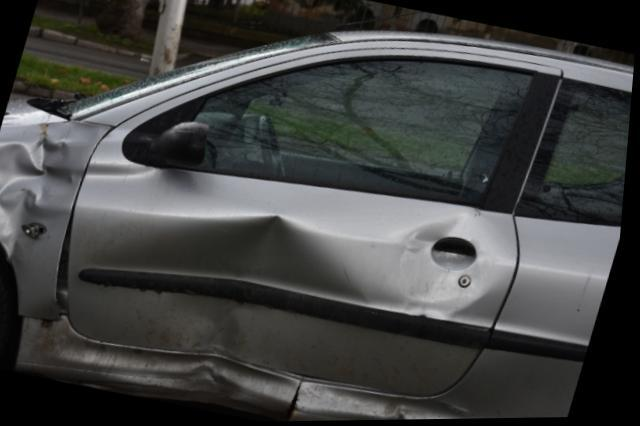crack: (291, 380, 310, 422)
dent: (143, 214, 371, 368), (0, 123, 91, 256), (395, 216, 505, 316), (167, 363, 247, 397), (84, 162, 169, 189)
